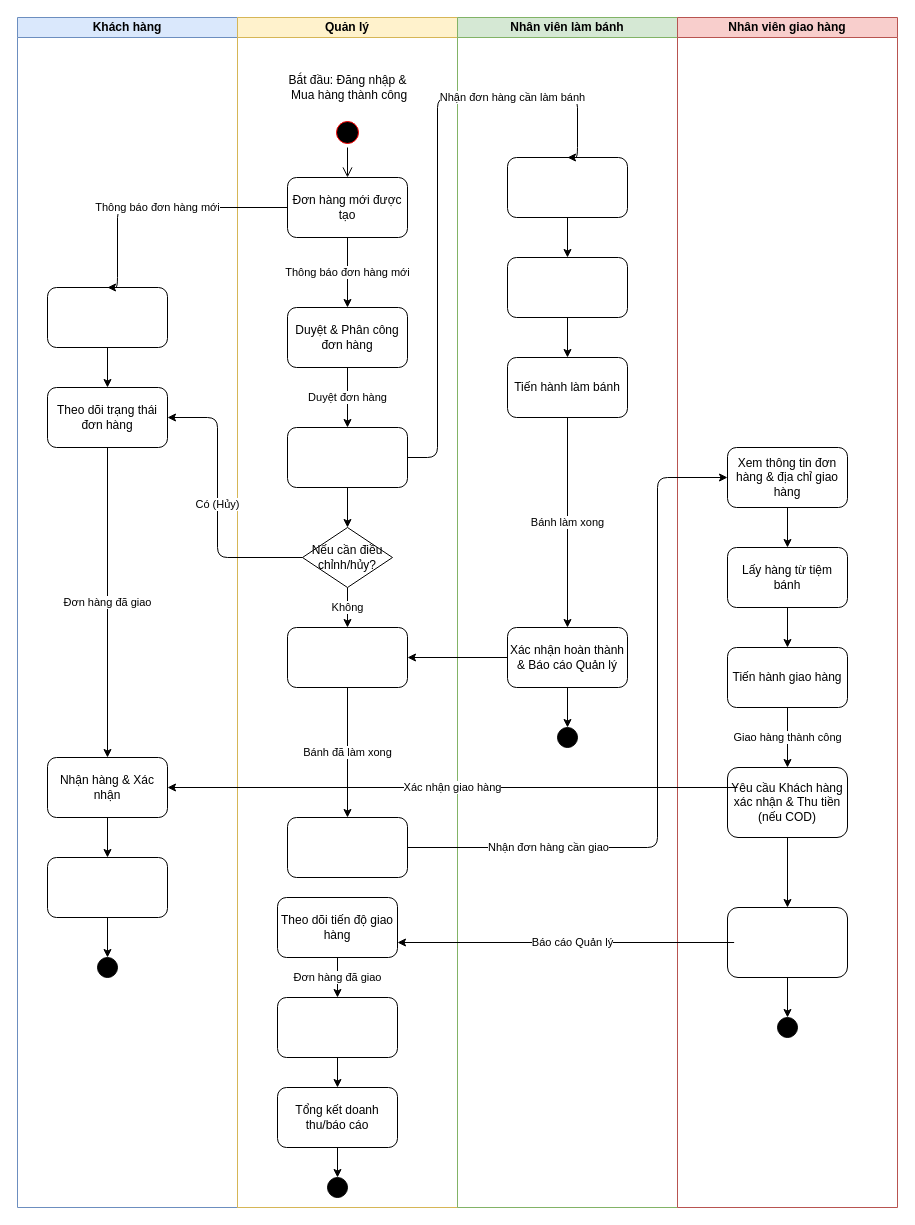
This 915x1225 diagram has some shape labels left out. Each missing label, with the centre of its shape:
Chuyển giao cho Nhân viên giao hàng: (x=347, y=847)
Chuẩn bị nguyên liệu: (x=567, y=287)
Cập nhật trạng thái giao hàng & Báo cáo Quản lý: (x=787, y=942)
Cập nhật trạng thái đơn hàng (Đã hoàn thành): (x=337, y=1027)
Kiểm tra tiến độ làm bánh: (x=347, y=657)
Phân công cho Nhân viên làm bánh: (x=347, y=457)
Xem chi tiết đơn hàng: (x=107, y=317)
Xem chi tiết đơn hàng (các loại bánh): (x=567, y=187)
Đánh giá sản phẩm/dịch vụ (Tùy chọn): (x=107, y=887)
